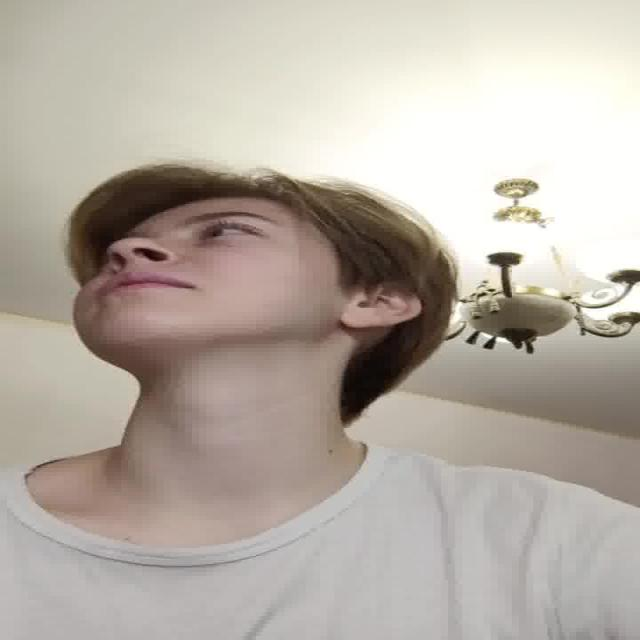earlobe: (339, 313, 388, 332)
eye: (196, 225, 260, 239)
nose: (108, 256, 172, 276)
wholeear: (340, 286, 420, 330)
